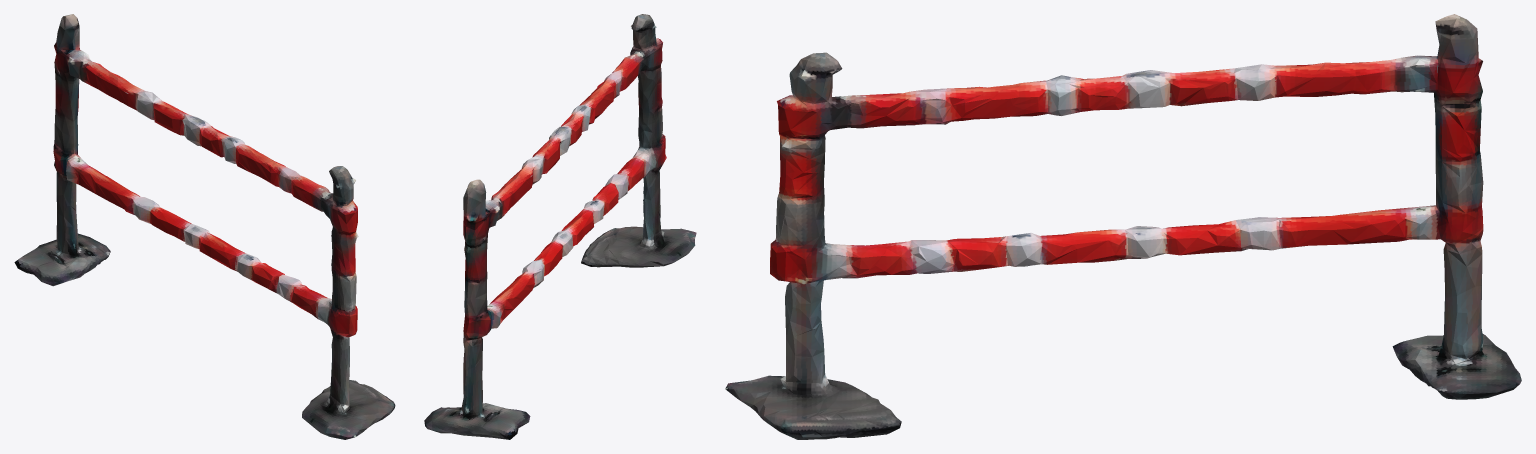
The model's file is barrier.obj.
3 views of the same model, side by side, from view 1: azimuth 30°, elevation 25°; view 2: azimuth 150°, elevation 25°; view 3: azimuth 270°, elevation 25° (orthographic). The views are drawn at different scales.
Bounding box in the file's own units: 0.5992 × 0.9998 × 2.
Materials: 1 (1 with a texture image).
